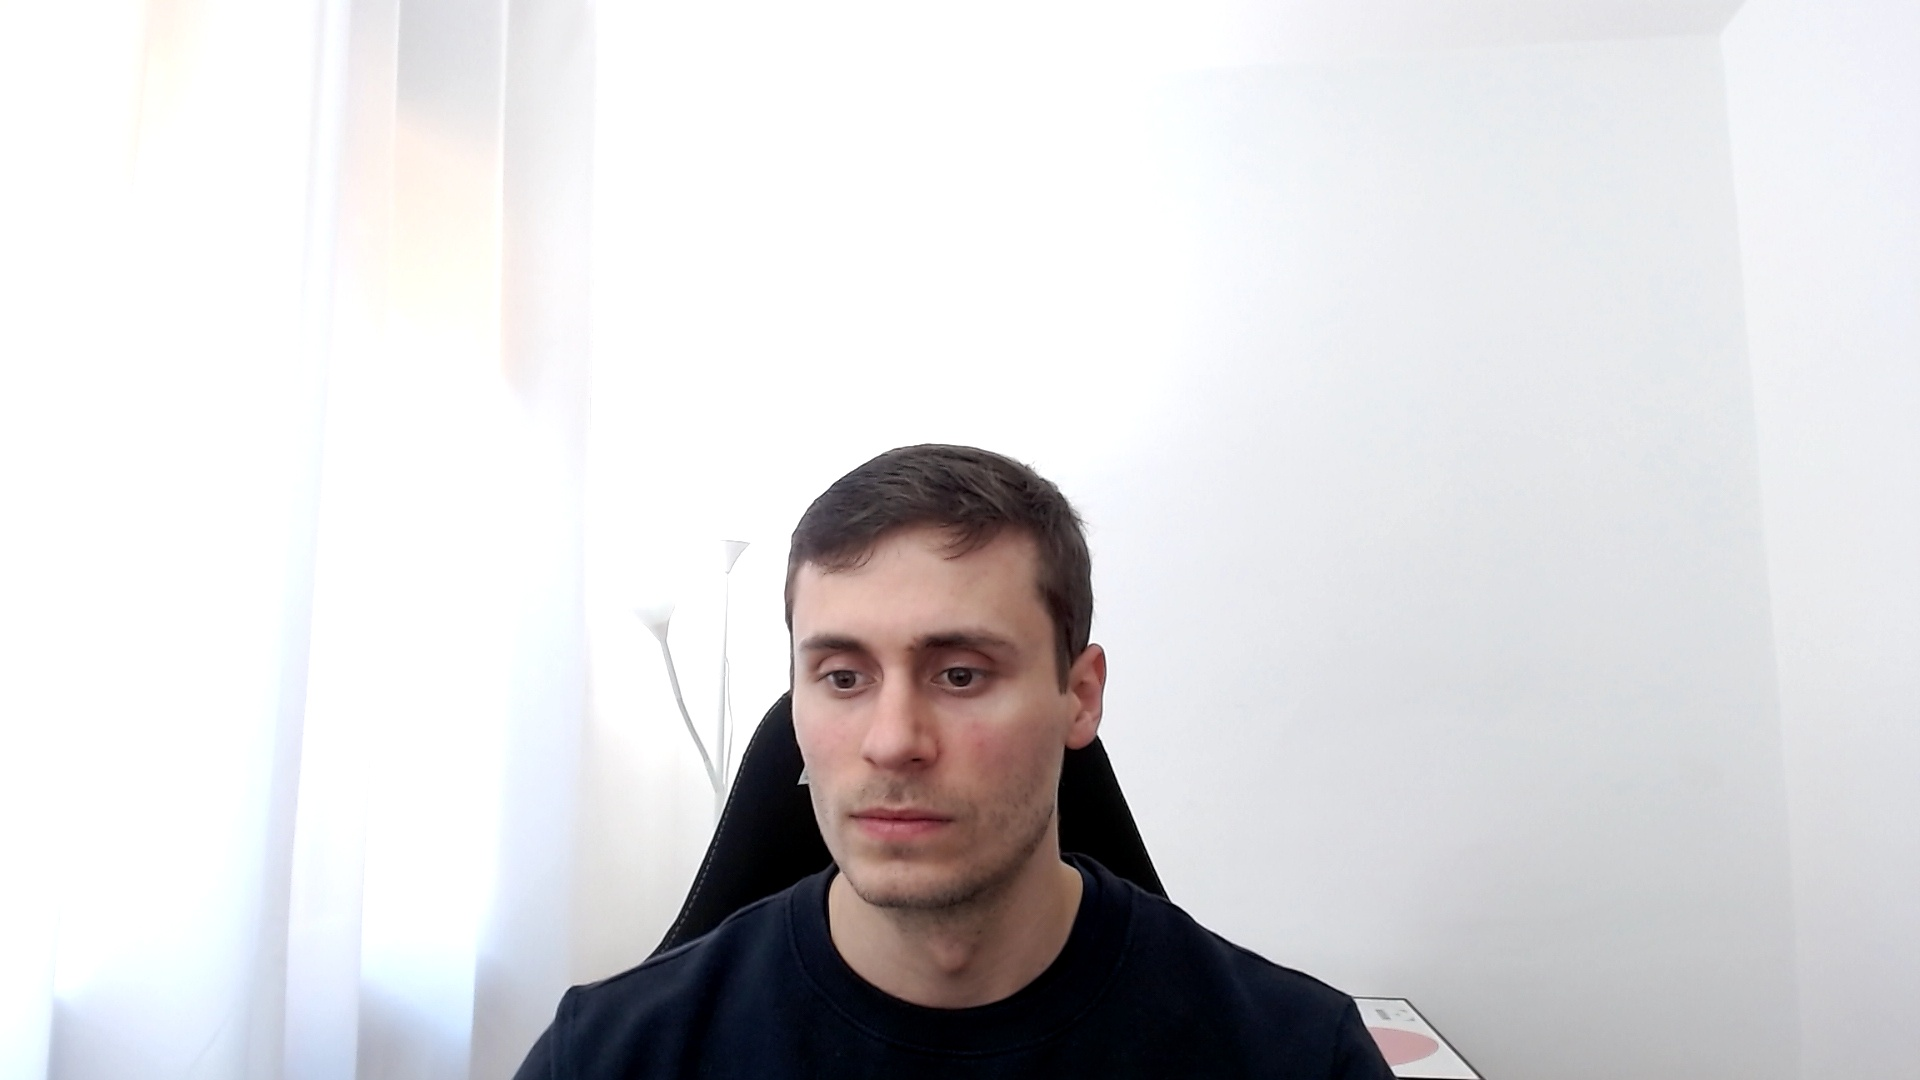No-mask: (785, 443, 1108, 906)
